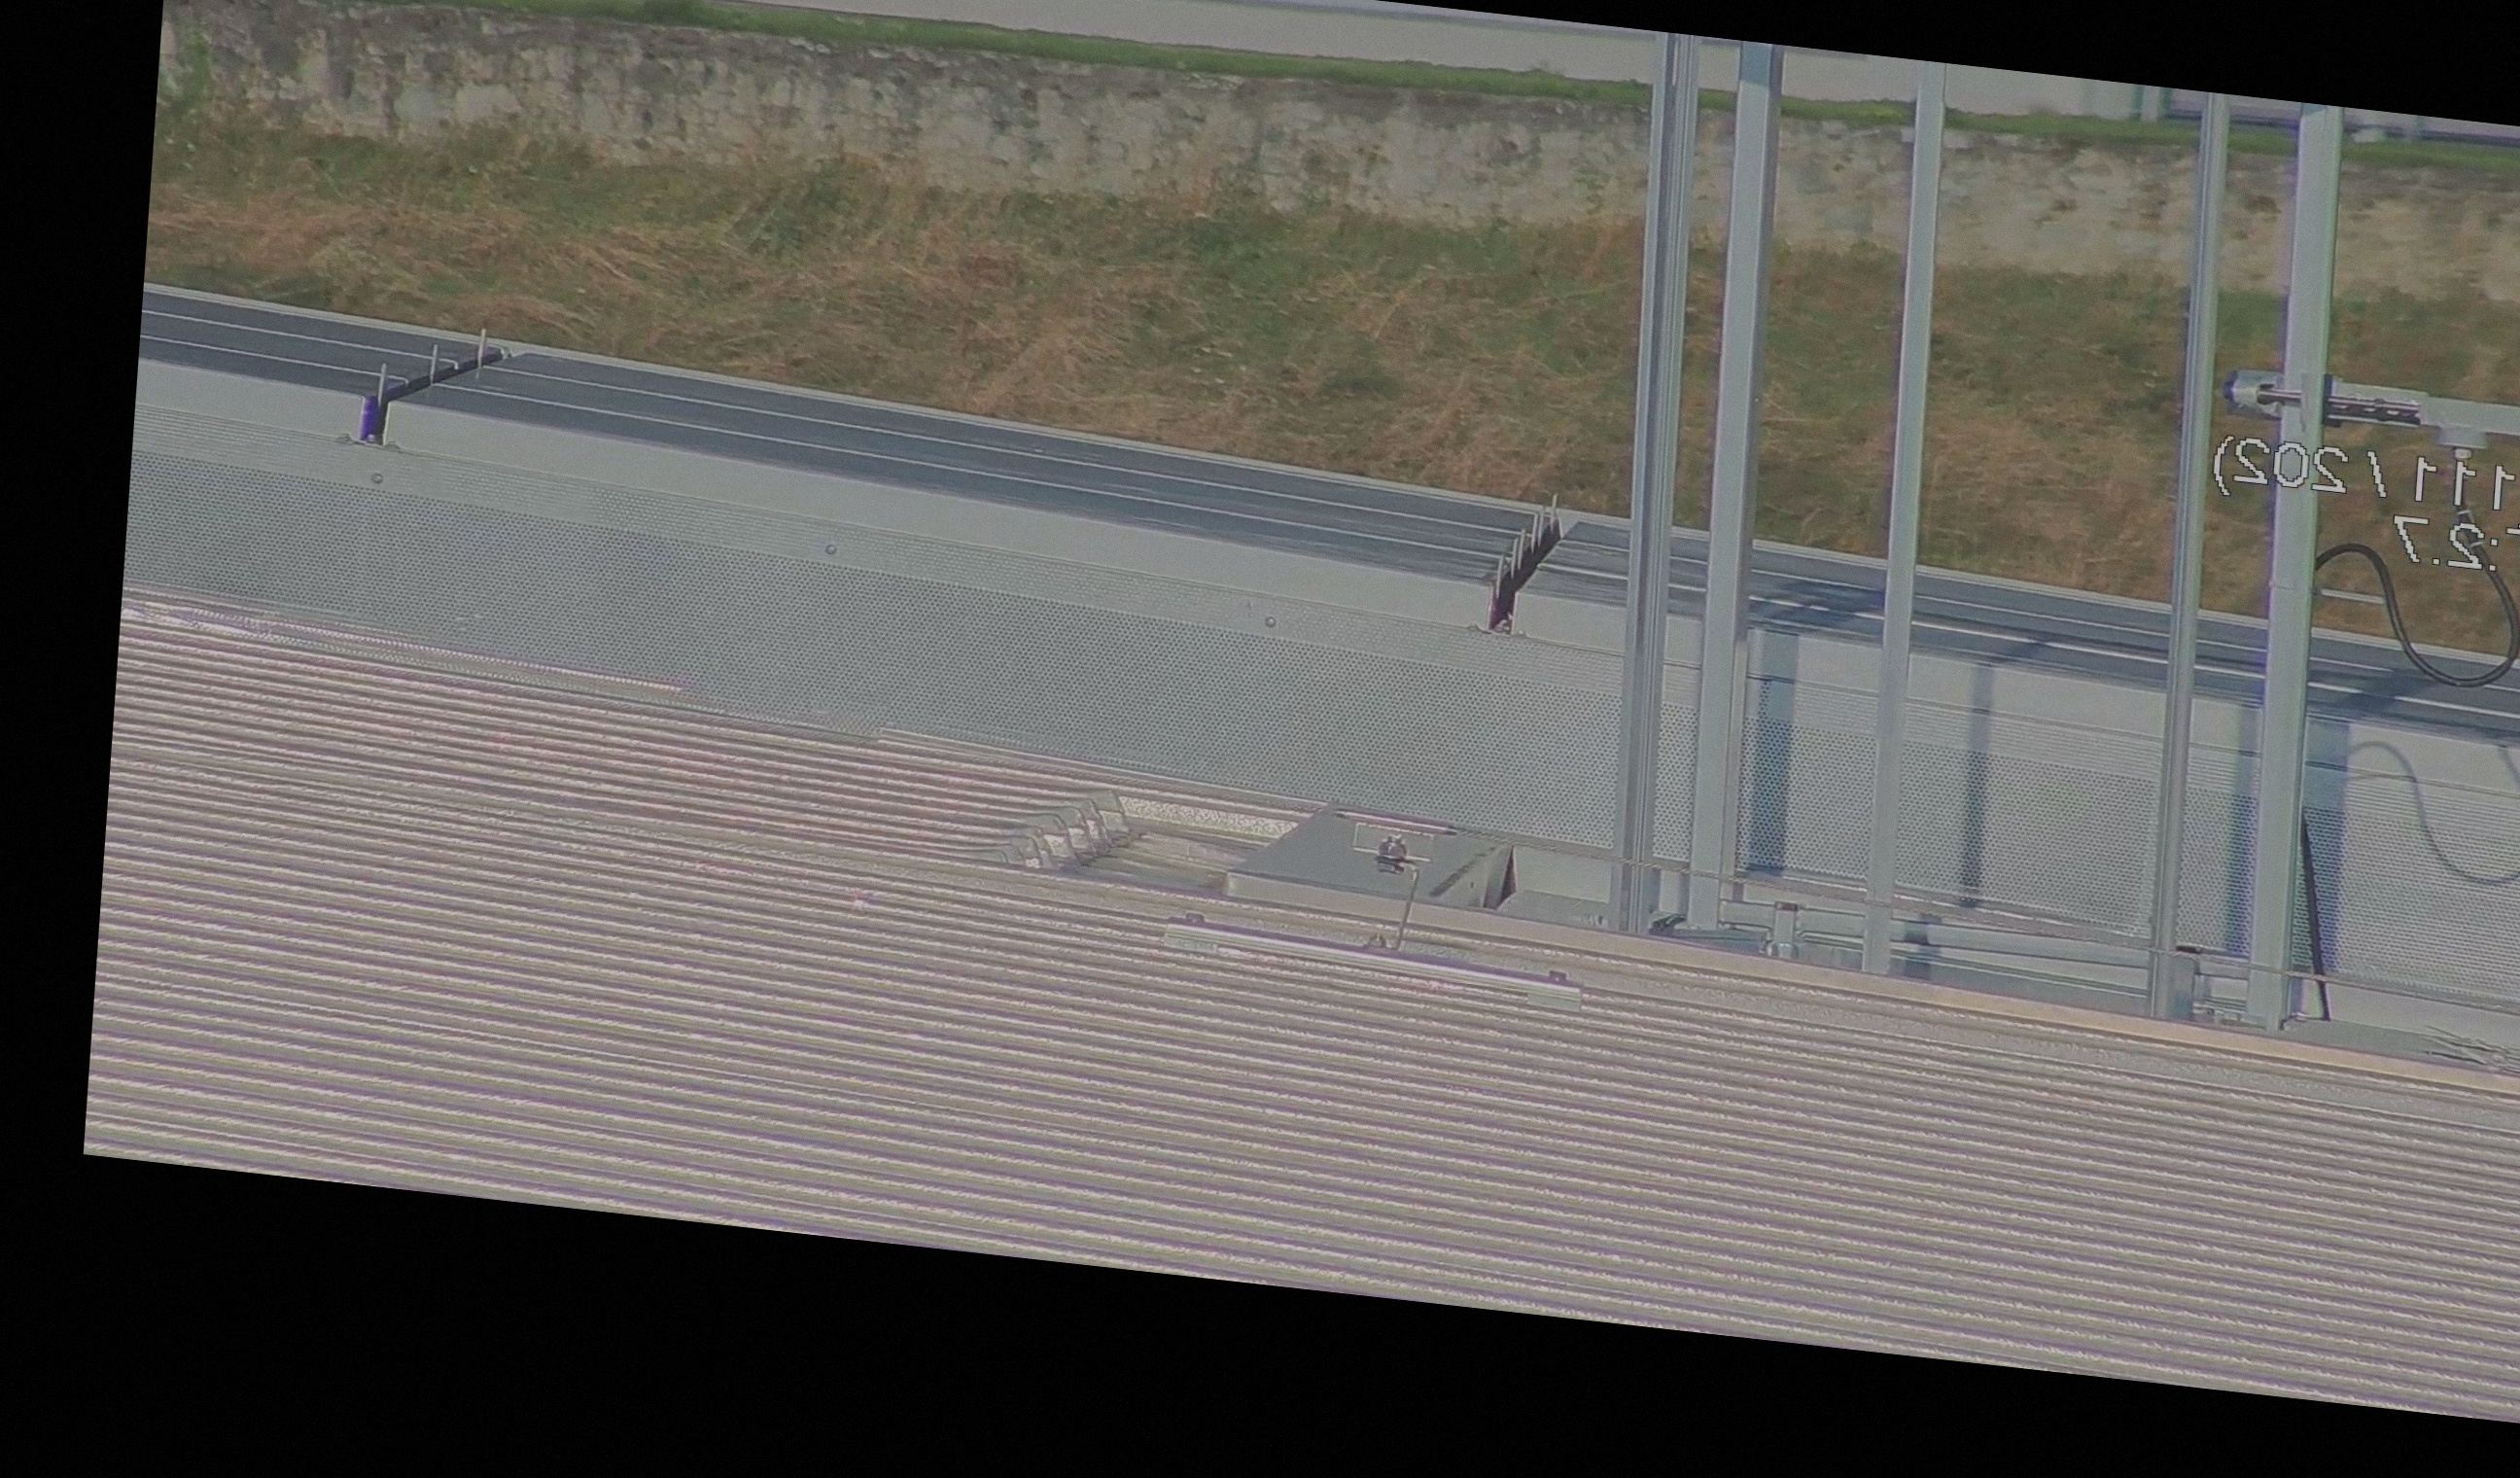Other: (1460, 479, 1602, 648)
